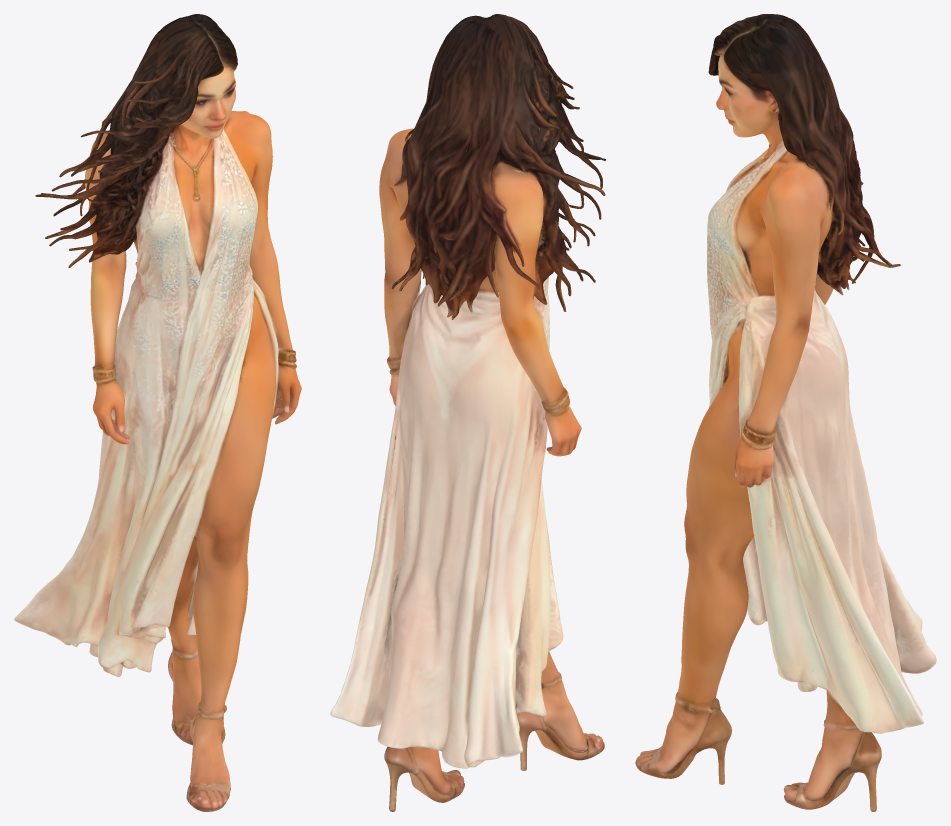
The model's file is Mulher-vestido-gala.glb.
3 renders of one model, left to right at view 1: azimuth 30°, elevation 25°; view 2: azimuth 150°, elevation 25°; view 3: azimuth 270°, elevation 25°, orthographic. The views are drawn at different scales.
Visible parts, largest first — view 1: Mesh_0_modddif_material_0_0 (×2); view 2: Mesh_0_modddif_material_0_0 (×2); view 3: Mesh_0_modddif_material_0_0 (×2).
Boxes of the visible parts, <box> form: Mesh_0_modddif_material_0_0 (×2): <box>14,14,301,811</box>; Mesh_0_modddif_material_0_0 (×2): <box>330,14,606,811</box>; Mesh_0_modddif_material_0_0 (×2): <box>635,14,936,811</box>.
Size of the model in its own units: 0.3208 by 0.9999 by 0.3533.
Materials: 1 (1 with a texture image).
